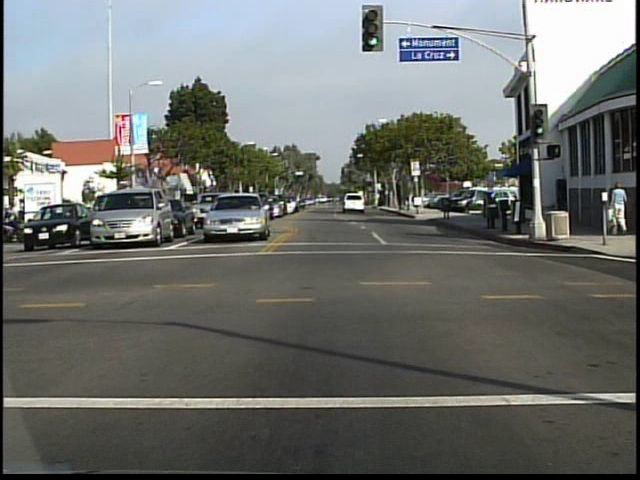person: (604, 176, 634, 242)
